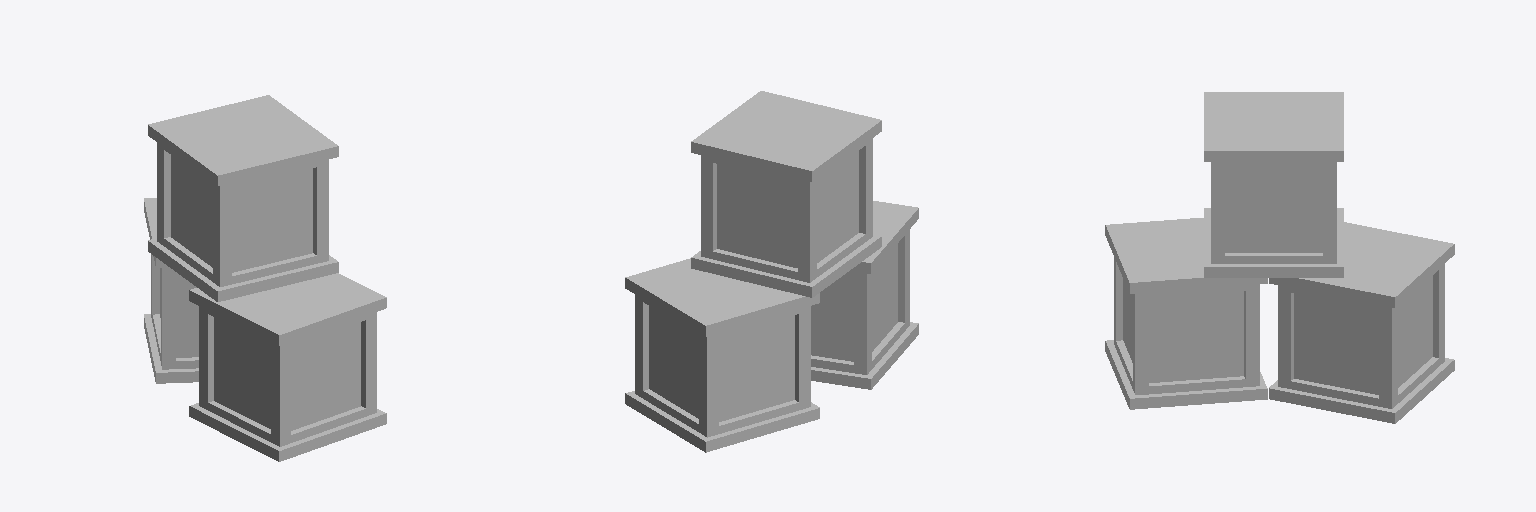
Rendered from crate_1_small_group.obj.
3 renders of one model, left to right at view 1: azimuth 30°, elevation 25°; view 2: azimuth 150°, elevation 25°; view 3: azimuth 270°, elevation 25°, orthographic.
Parts seen in each view (by area): view 1: Crate_1_Small.002_Cube.048, Crate_1_Small.003_Cube.049, Crate_1_Small.004_Cube.050; view 2: Crate_1_Small.002_Cube.048, Crate_1_Small.004_Cube.050, Crate_1_Small.003_Cube.049; view 3: Crate_1_Small.004_Cube.050, Crate_1_Small.002_Cube.048, Crate_1_Small.003_Cube.049.
Boxes of the visible parts, <box> form: Crate_1_Small.002_Cube.048: <box>148,95,338,301</box>; Crate_1_Small.003_Cube.049: <box>189,273,386,461</box>; Crate_1_Small.004_Cube.050: <box>144,198,198,383</box>; Crate_1_Small.002_Cube.048: <box>691,91,881,297</box>; Crate_1_Small.004_Cube.050: <box>625,258,819,452</box>; Crate_1_Small.003_Cube.049: <box>811,201,918,389</box>; Crate_1_Small.004_Cube.050: <box>1269,222,1454,423</box>; Crate_1_Small.002_Cube.048: <box>1204,92,1343,277</box>; Crate_1_Small.003_Cube.049: <box>1105,218,1267,409</box>.
Bounding box in the file's own units: 1.06 × 1.51 × 1.88.